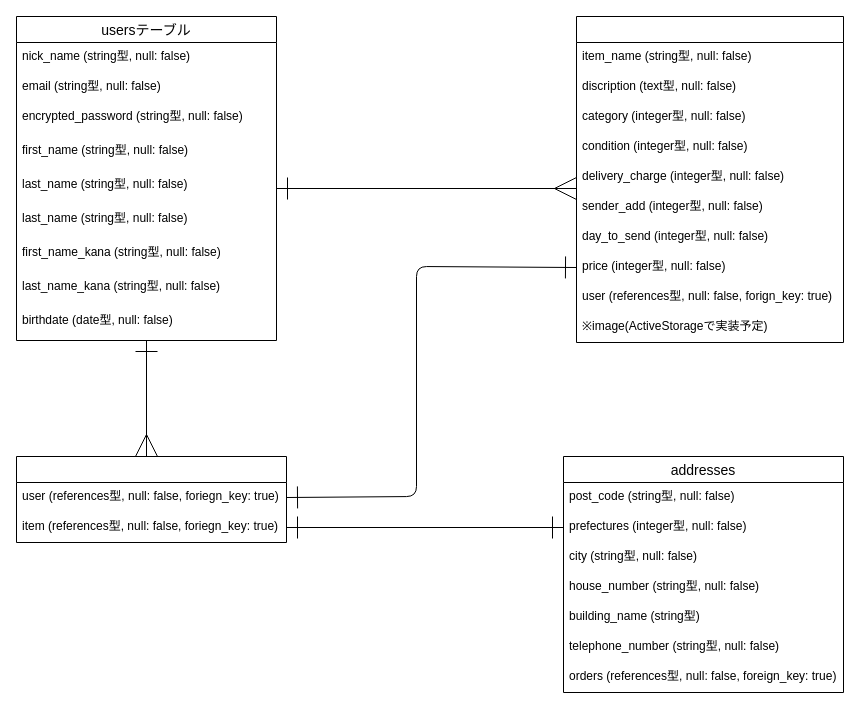
Image size: 860x709. Some labels were removed from this diagram. Here are the shapes that lost their labels. From the top down, the box of each, then its label:
(576, 16, 844, 342): itemsテーブル
(16, 456, 286, 542): ordersテーブル
